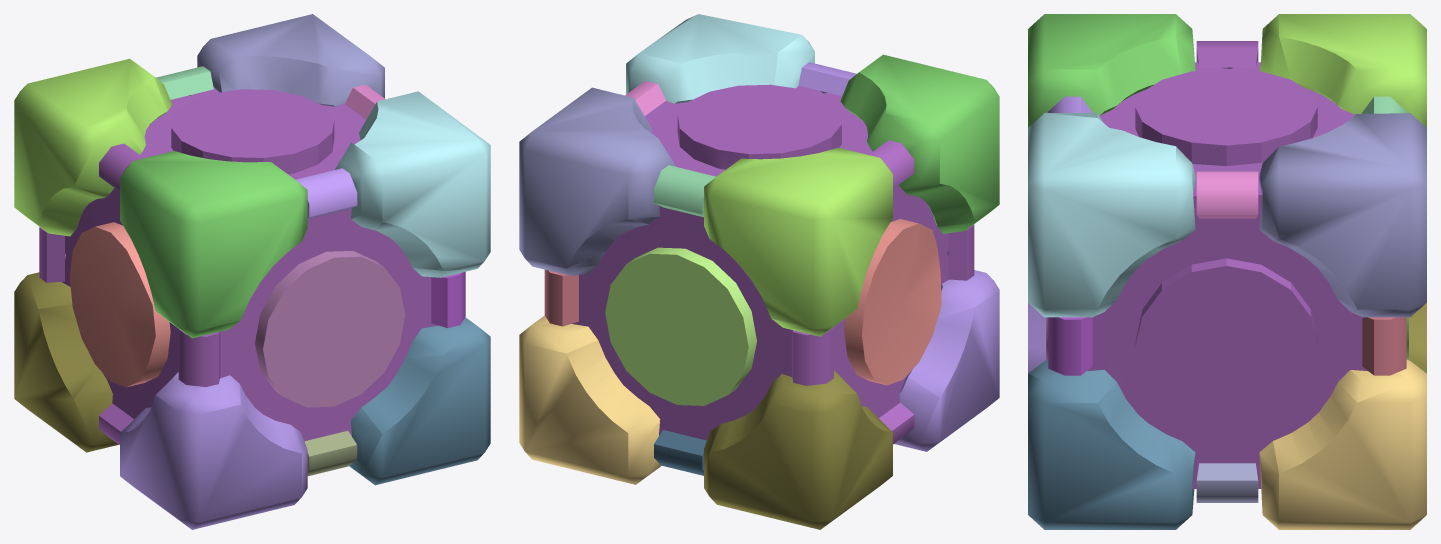
The picture shows the model from 3 angles, left to right: view 1: azimuth 30°, elevation 25°; view 2: azimuth 150°, elevation 25°; view 3: azimuth 270°, elevation 25°; orthographic projection. The views are drawn at different scales.
Parts seen in each view (by area): view 1: split_parent_0, lowPolyObject_ccNormal_0.122, lowPolyObject_ccNormal_0.024, lowPolyObject_ccNormal_0.025, lowPolyObject_ccNormal_0.014, lowPolyObject_ccNormal_0.023, lowPolyObject_ccNormal_0.028, lowPolyObject_ccNormal_0.030, lowPolyObject_ccNormal_0.006, lowPolyObject_ccNormal_0.029, lowPolyObject_ccNormal_0.112, lowPolyObject_ccNormal_0.018 (+3 smaller); view 2: split_parent_0, lowPolyObject_ccNormal_0.023, lowPolyObject_ccNormal_0.030, lowPolyObject_ccNormal_0.029, lowPolyObject_ccNormal_0.010, lowPolyObject_ccNormal_0.122, lowPolyObject_ccNormal_0.258, lowPolyObject_ccNormal_0.024, lowPolyObject_ccNormal_0.006, lowPolyObject_ccNormal_0.025, lowPolyObject_ccNormal_0.019, lowPolyObject_ccNormal_0.251 (+3 smaller); view 3: split_parent_0, lowPolyObject_ccNormal_0.029, lowPolyObject_ccNormal_0.025, lowPolyObject_ccNormal_0.258, lowPolyObject_ccNormal_0.028, lowPolyObject_ccNormal_0.023, lowPolyObject_ccNormal_0.122, lowPolyObject_ccNormal_0.021, lowPolyObject_ccNormal_0.018, lowPolyObject_ccNormal_0.251, lowPolyObject_ccNormal_0.246, lowPolyObject_ccNormal_0.024 (+3 smaller).
Part boxes in pixels (x1,y1,x2,y2): split_parent_0: (39,87,438,444); lowPolyObject_ccNormal_0.122: (120,151,307,338); lowPolyObject_ccNormal_0.024: (120,372,307,529); lowPolyObject_ccNormal_0.025: (335,91,490,277); lowPolyObject_ccNormal_0.014: (255,251,405,407); lowPolyObject_ccNormal_0.023: (14,58,172,236); lowPolyObject_ccNormal_0.028: (349,317,490,485); lowPolyObject_ccNormal_0.030: (14,272,118,452); lowPolyObject_ccNormal_0.006: (69,222,170,387); lowPolyObject_ccNormal_0.029: (197,14,384,106); lowPolyObject_ccNormal_0.112: (295,168,357,219); lowPolyObject_ccNormal_0.018: (431,272,465,328); split_parent_0: (572,84,974,444); lowPolyObject_ccNormal_0.023: (704,147,892,336); lowPolyObject_ccNormal_0.030: (704,370,892,529); lowPolyObject_ccNormal_0.029: (519,87,676,275); lowPolyObject_ccNormal_0.010: (605,247,756,405); lowPolyObject_ccNormal_0.122: (840,54,999,233); lowPolyObject_ccNormal_0.258: (519,315,661,484); lowPolyObject_ccNormal_0.024: (894,270,999,451); lowPolyObject_ccNormal_0.006: (844,219,941,385); lowPolyObject_ccNormal_0.025: (626,14,814,103); lowPolyObject_ccNormal_0.019: (654,165,715,217); lowPolyObject_ccNormal_0.251: (544,269,578,326); split_parent_0: (1087,41,1367,488); lowPolyObject_ccNormal_0.029: (1259,113,1426,317); lowPolyObject_ccNormal_0.025: (1028,113,1195,317); lowPolyObject_ccNormal_0.258: (1259,359,1426,529); lowPolyObject_ccNormal_0.028: (1028,359,1195,529); lowPolyObject_ccNormal_0.023: (1259,14,1426,127); lowPolyObject_ccNormal_0.122: (1028,14,1195,127); lowPolyObject_ccNormal_0.021: (1196,171,1258,218); lowPolyObject_ccNormal_0.018: (1048,317,1092,375); lowPolyObject_ccNormal_0.251: (1362,317,1406,375); lowPolyObject_ccNormal_0.246: (1196,463,1258,502); lowPolyObject_ccNormal_0.024: (1028,303,1046,373).
Size of the model in its own units: 1 by 1 by 1.
